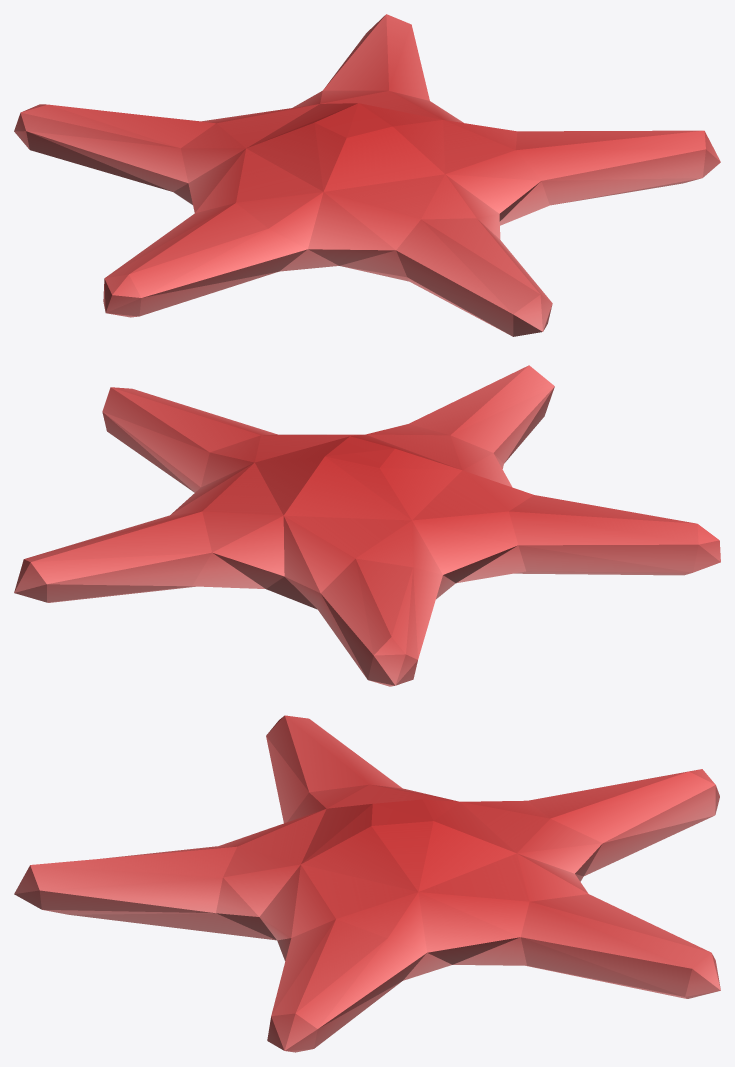
Rendered from SM_Starfish_1.fbx.
3 views of the same model, one above another, from view 1: azimuth 30°, elevation 25°; view 2: azimuth 150°, elevation 25°; view 3: azimuth 270°, elevation 25° (orthographic). The views are drawn at different scales.
Parts seen in each view (by area): view 1: Starfish_1; view 2: Starfish_1; view 3: Starfish_1.
Boxes of the visible parts, <box> form: Starfish_1: <box>14,14,720,336</box>; Starfish_1: <box>14,365,720,686</box>; Starfish_1: <box>14,715,720,1052</box>.
Bounding box in the file's own units: 24.75 × 3.88 × 23.56.
